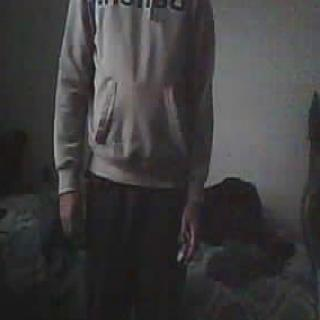Navy Sweatpants: (78, 178, 188, 320)
Yellow Hoodie: (51, 0, 210, 185)
